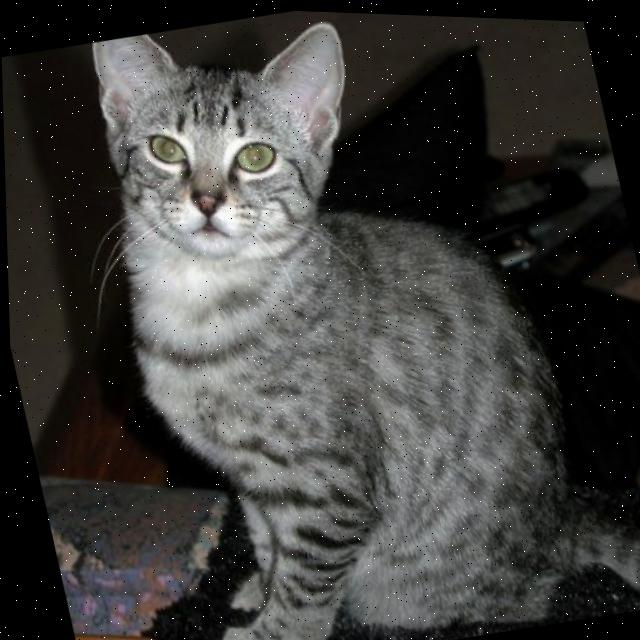Egyptian Mau: (61, 2, 640, 640)
